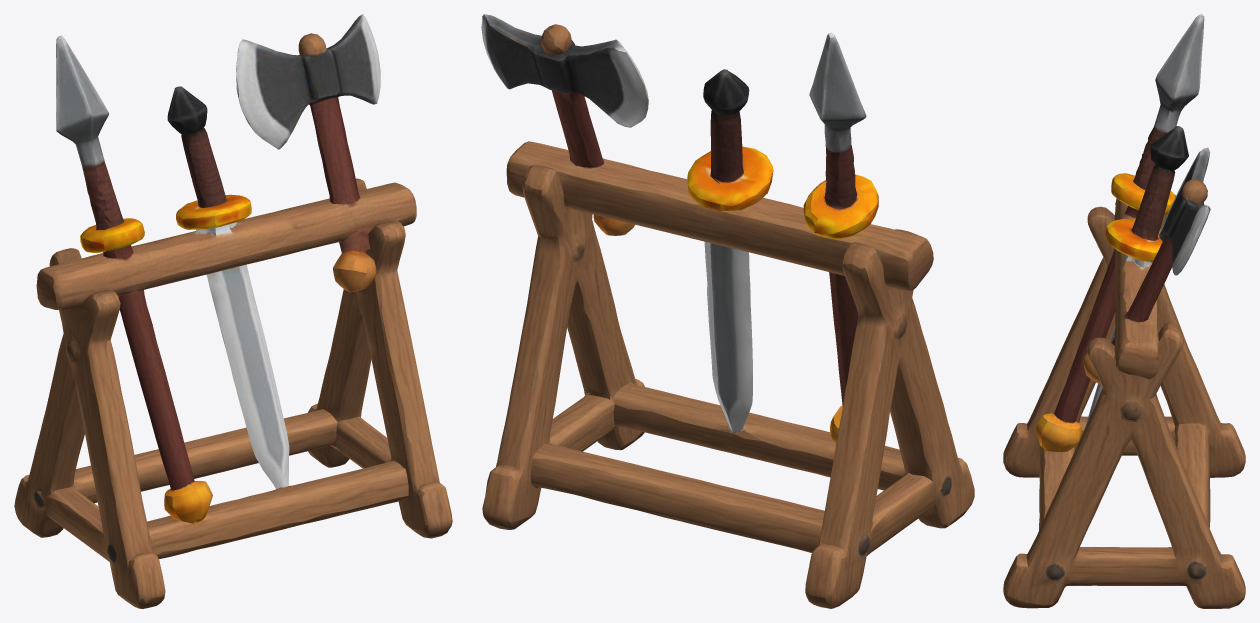
The model's file is sz-weapon-rack.glb.
3 views of the same model, side by side, from view 1: azimuth 30°, elevation 25°; view 2: azimuth 150°, elevation 25°; view 3: azimuth 270°, elevation 25° (orthographic). The views are drawn at different scales.
Parts seen in each view (by area): view 1: geometry_0; view 2: geometry_0; view 3: geometry_0.
Part boxes in pixels (left/top/right/bottom): geometry_0: left=14, top=14, right=452, bottom=608; geometry_0: left=481, top=14, right=974, bottom=608; geometry_0: left=1003, top=14, right=1245, bottom=608.
Size of the model in its own units: 0.7624 by 1 by 0.4722.
1 material, 1 textured.
